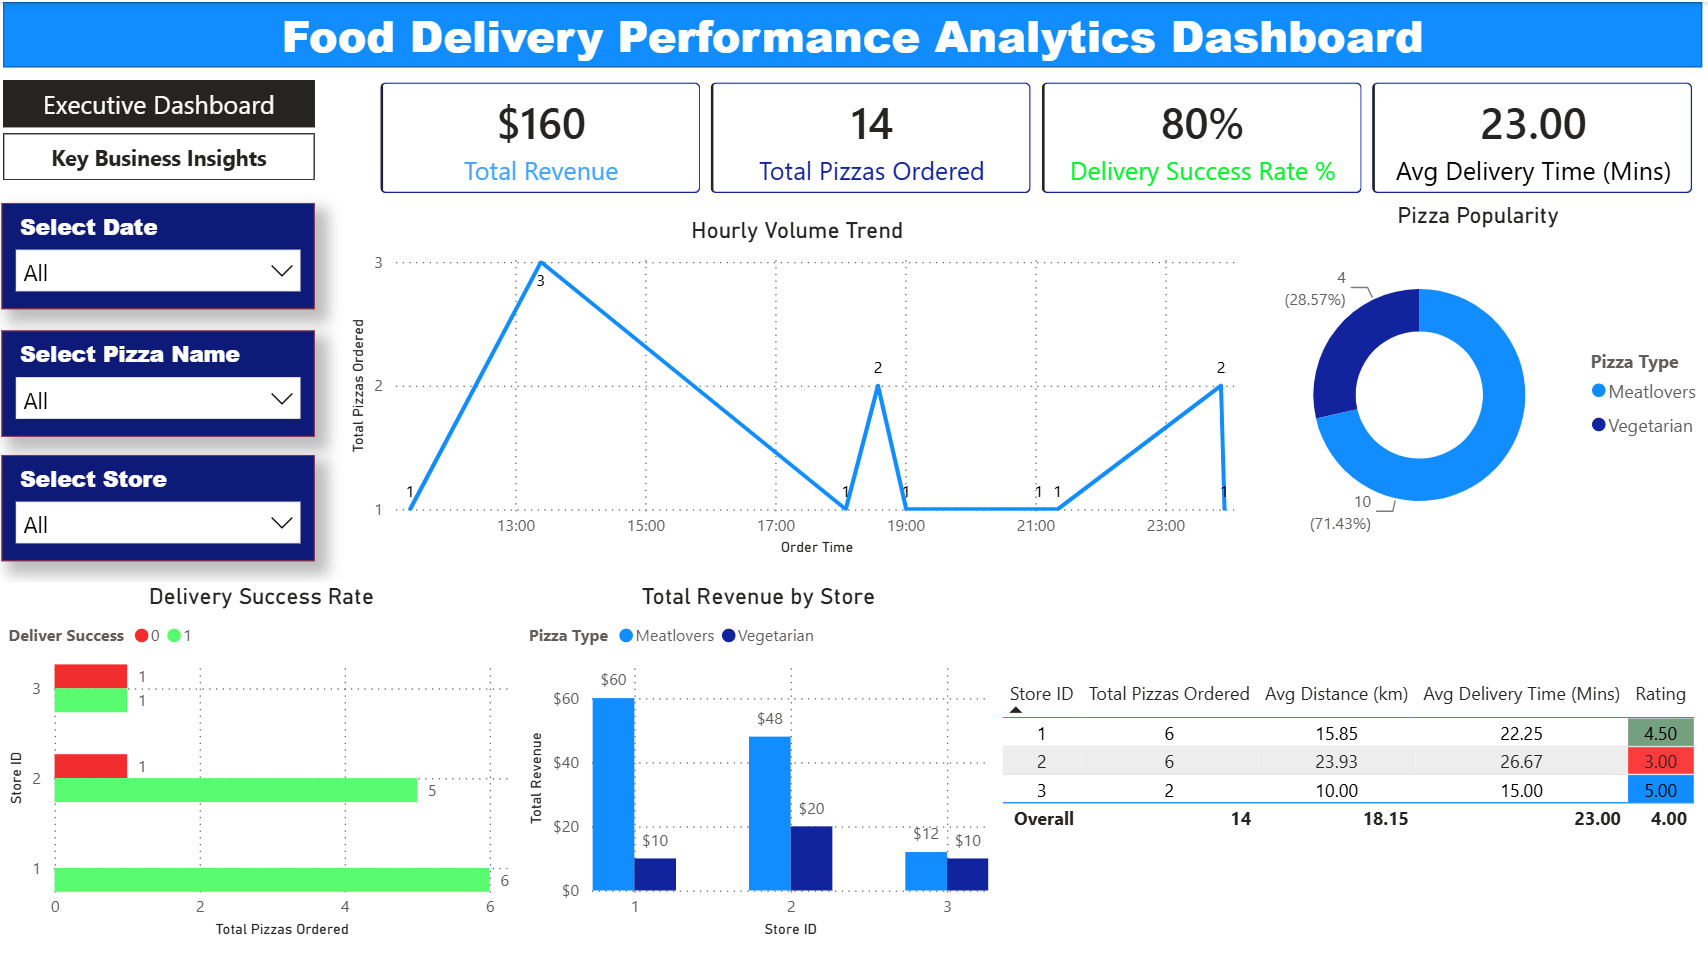

This screenshot's page, from the dashboard's own definition file:
{"tool":"powerbi","page":{"name":"Executive Dashboard","canvas":[1280,720],"ordinal":0},"visuals":[{"type":"pageNavigator","box":[10.6,57.5,231.5,75.7],"z":0},{"type":"slicer","fields":{"Values":["Calendar.Date"]},"box":[10,148.4,231.9,78.5],"z":1000},{"type":"slicer","fields":{"Values":["pizza_names.pizza_name"]},"box":[10,243.1,231.9,78.5],"z":2000},{"type":"cardVisual","fields":{"Data":["Dax Measures.Total Revenue","Dax Measures.Total Pizzas Ordered","Dax Measures.Delivery Success Rate %","Dax Measures.Avg Delivery Time (Mins)"]},"box":[273.9,42.4,1006.1,116.5],"z":3000},{"type":"donutChart","title":"Pizza Popularity","fields":{"Category":["pizza_names.pizza_name"],"Y":["Dax Measures.Total Pizzas Ordered"]},"box":[868.5,148.3,411.5,281.4],"z":4000},{"type":"lineChart","title":"Hourly Volume Trend","fields":{"Category":["vw_customer_orders_clean.order_time"],"Y":["Dax Measures.Total Pizzas Ordered"]},"box":[263.1,158.3,605.9,255.6],"z":5000},{"type":"slicer","fields":{"Values":["vw_runner_orders_clean.runner_id"]},"box":[10,335.4,231.9,78.5],"z":6000},{"type":"tableEx","fields":{"Values":["vw_runner_orders_clean.runner_id","Dax Measures.Total Pizzas Ordered","Avg(vw_runner_orders_clean.distance_km)","Dax Measures.Avg Delivery Time (Mins)","Avg(runner_ratings.rating)"]},"box":[745.9,496.3,529.6,133.1],"z":7000},{"type":"clusteredBarChart","title":"Delivery Success Rate","fields":{"Y":["Dax Measures.Total Pizzas Ordered"],"Category":["vw_runner_orders_clean.runner_id"],"Series":["vw_runner_orders_clean.delivery_success"]},"box":[10,430.1,385.3,266.8],"z":8000},{"type":"clusteredColumnChart","title":"Total Revenue by Store","fields":{"Y":["Dax Measures.Total Revenue"],"Category":["vw_runner_orders_clean.runner_id"],"Series":["pizza_names.pizza_name"]},"box":[395.2,430.1,350.3,266.8],"z":9000},{"type":"shape","box":[10.6,0,1258.8,48.4],"z":10000}]}

Visuals, with their boxes in screenshot pixels (x1, y1, x2, y2), scaled from the page's 1280x720 canvas onto the 1708x967 screenshot:
pageNavigator: locate(14, 77, 323, 179)
slicer - Calendar.Date: locate(13, 199, 323, 305)
slicer - pizza_names.pizza_name: locate(13, 326, 323, 432)
cardVisual - Dax Measures.Total Revenue x Dax Measures.Total Pizzas Ordered: locate(365, 57, 1707, 213)
"Pizza Popularity" donutChart: locate(1159, 199, 1707, 577)
"Hourly Volume Trend" lineChart: locate(351, 213, 1160, 556)
slicer - vw_runner_orders_clean.runner_id: locate(13, 450, 323, 556)
tableEx - vw_runner_orders_clean.runner_id x Dax Measures.Total Pizzas Ordered: locate(995, 667, 1702, 845)
"Delivery Success Rate" clusteredBarChart: locate(13, 578, 527, 936)
"Total Revenue by Store" clusteredColumnChart: locate(527, 578, 995, 936)
shape: locate(14, 0, 1694, 65)
